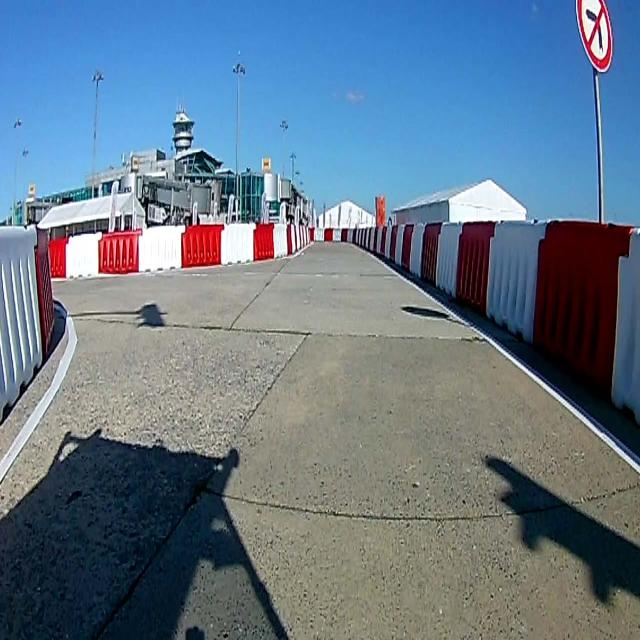soladonulmez: (576, 1, 614, 74)
